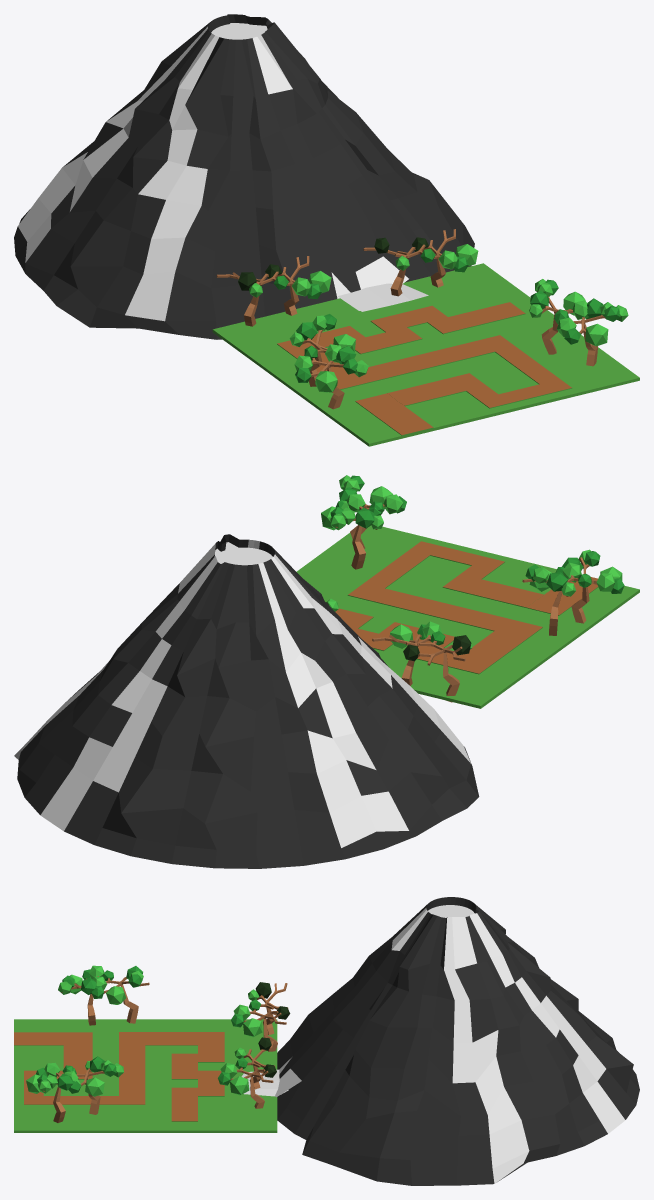
File: mapa_pravěk.fbx
3 renders of one model, top to bottom at view 1: azimuth 30°, elevation 25°; view 2: azimuth 150°, elevation 25°; view 3: azimuth 270°, elevation 25°, orthographic. The views are drawn at different scales.
Visible parts, largest first — view 1: Cylinder, Cube, Cylinder.001, Cube.009; view 2: Cylinder, Cube, Cube.006; view 3: Cylinder, Cube, Cylinder.001, Cube.009, Cube.003, Cube.008.
Boxes of the visible parts, x1,y1,x2,y2 form: Cylinder: [14, 14, 474, 339]; Cube: [212, 263, 639, 446]; Cylinder.001: [252, 35, 408, 298]; Cube.009: [337, 283, 428, 311]; Cylinder: [14, 534, 479, 868]; Cube: [296, 525, 639, 708]; Cube.006: [418, 640, 465, 702]; Cylinder: [277, 897, 639, 1185]; Cube: [14, 1019, 277, 1132]; Cylinder.001: [275, 908, 427, 1097]; Cube.009: [241, 1069, 288, 1096]; Cube.003: [230, 1067, 273, 1108]; Cube.008: [103, 977, 149, 1023].
Size of the model in its own units: 5975 by 3319 by 9510.
